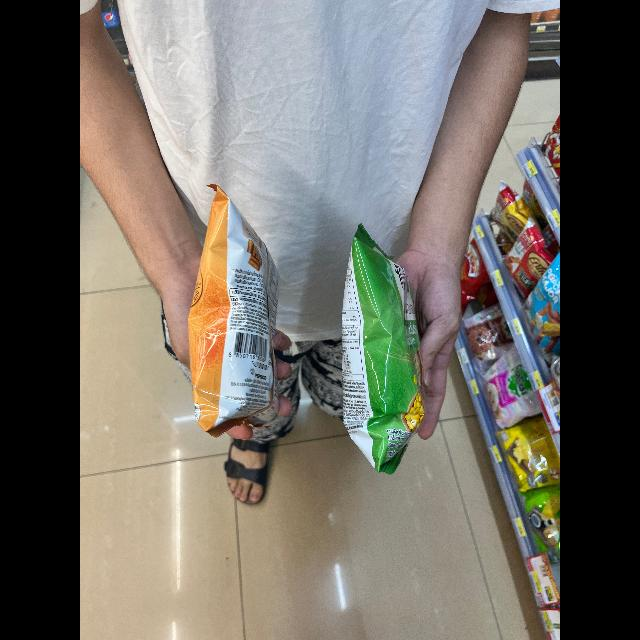snack_bag: (166, 168, 300, 456), (330, 224, 444, 476)
